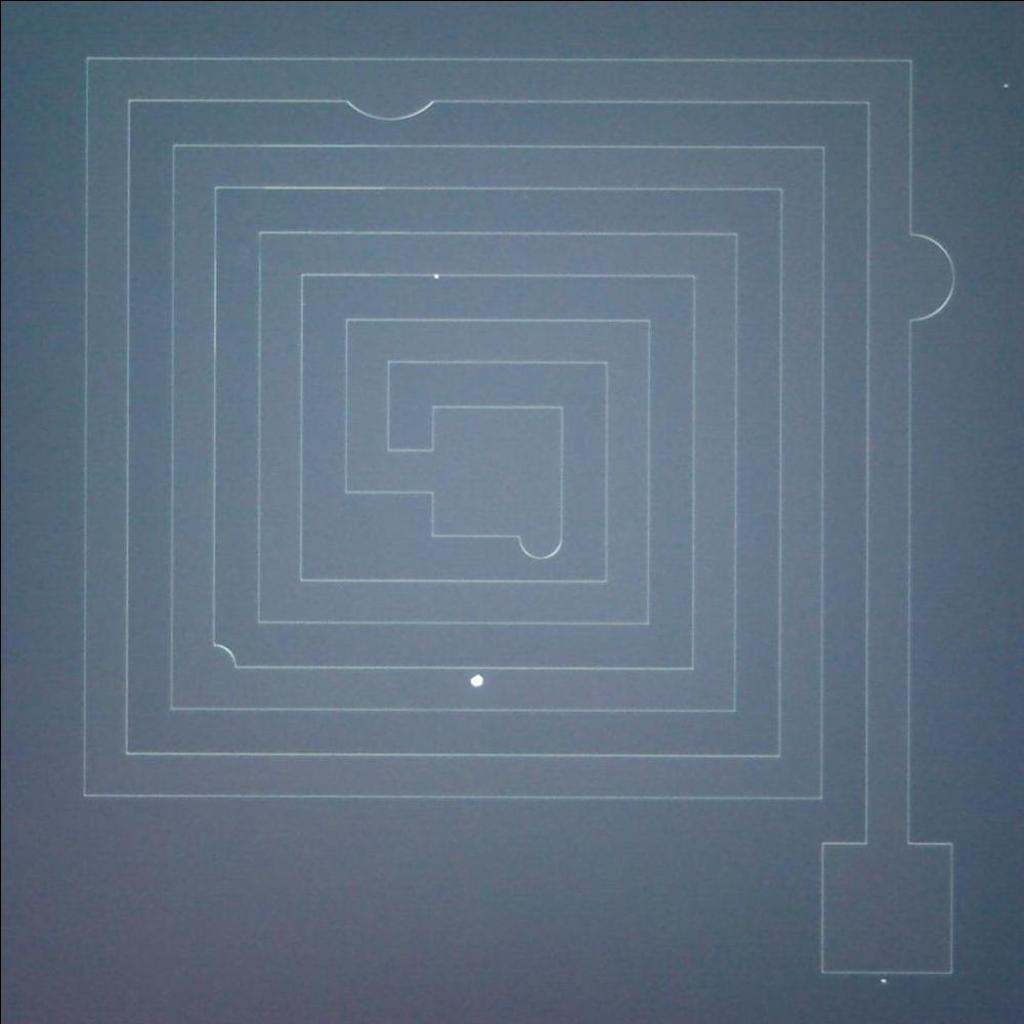curve circuit: (889, 214, 960, 330), (332, 88, 445, 124), (506, 521, 567, 568), (200, 634, 248, 676)
dot: (988, 68, 1022, 106), (424, 263, 453, 291), (866, 971, 896, 995)
spot: (459, 662, 494, 700)
